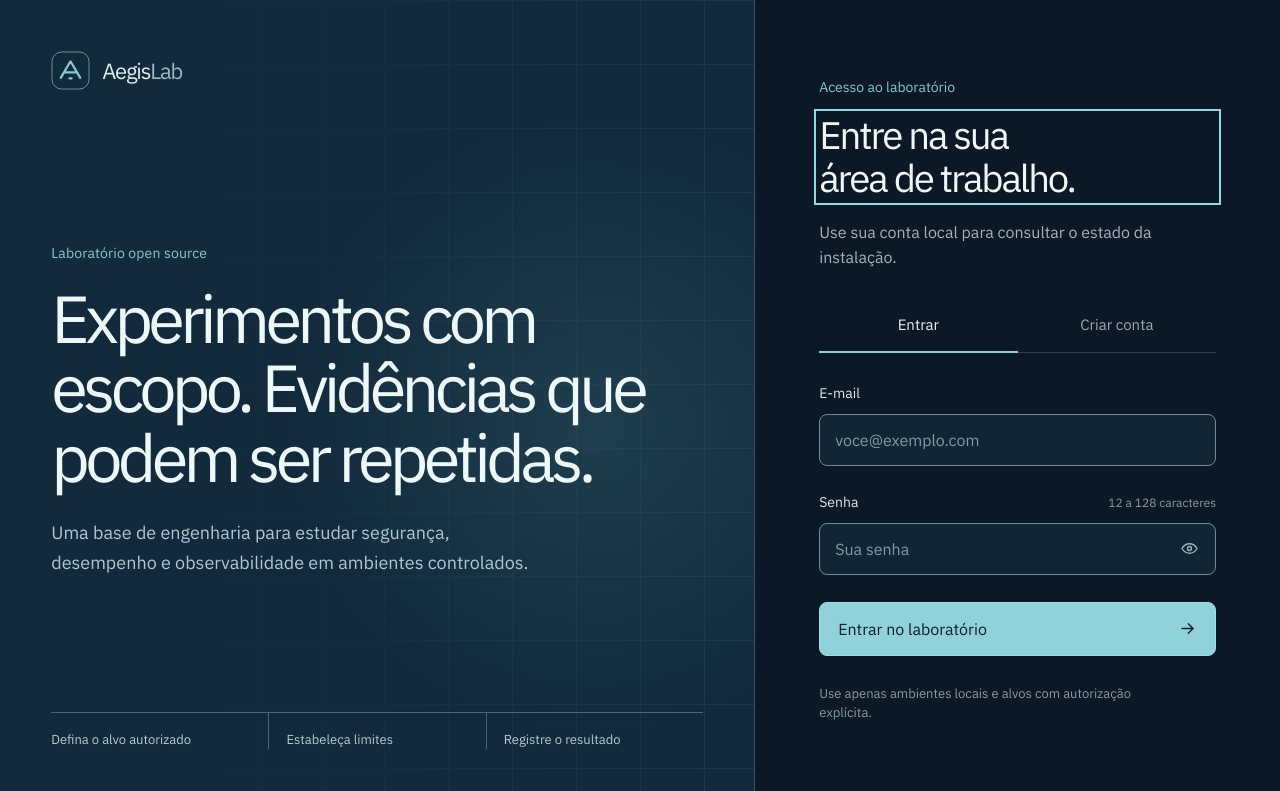
Test case: AegisLab interface › ignores an old dashboard HTTP 200 response after logout and another login
In the field labelled "E-mail": (1018, 440) [819, 414, 1216, 466], type "antigo@example.test"
In the password field labelled "Senha": (1018, 548) [819, 522, 1216, 574], type "strong-password-123"
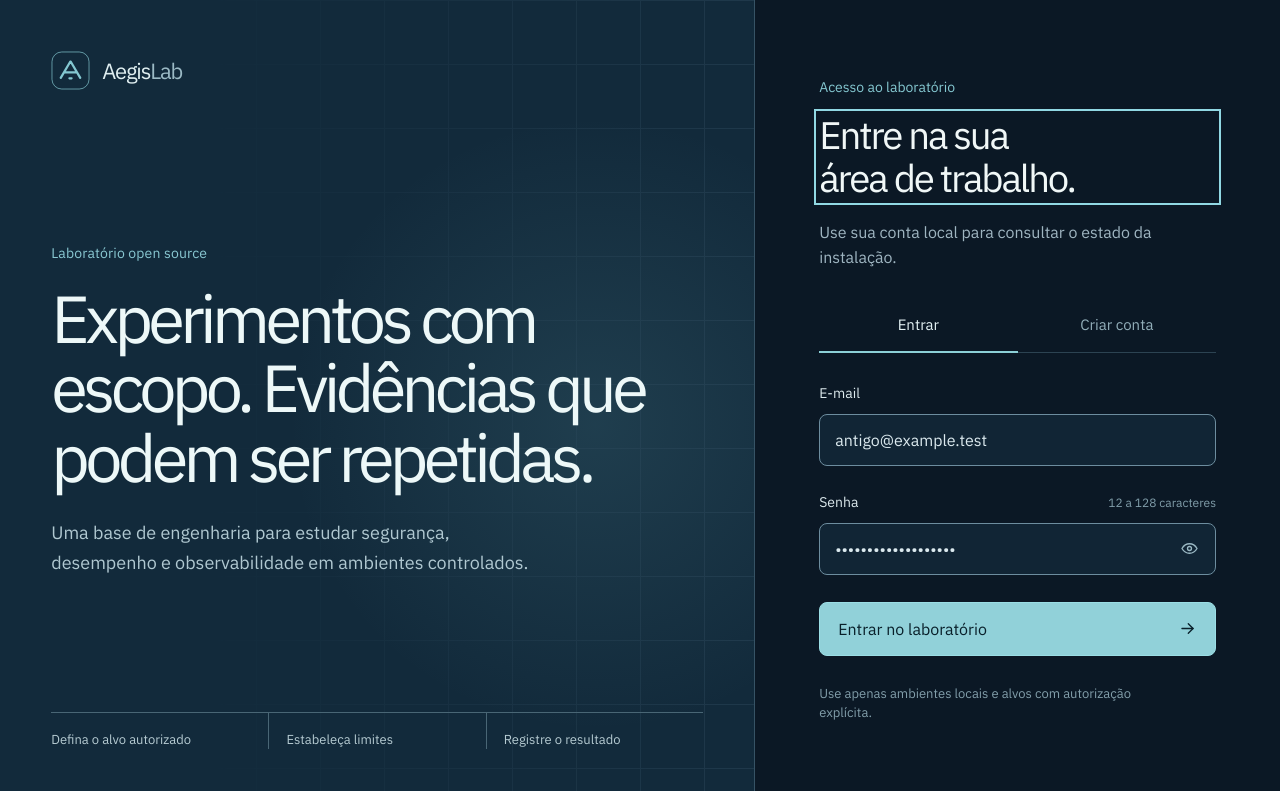
Click the button "Entrar no laboratório": click(913, 629) [819, 602, 1216, 656]
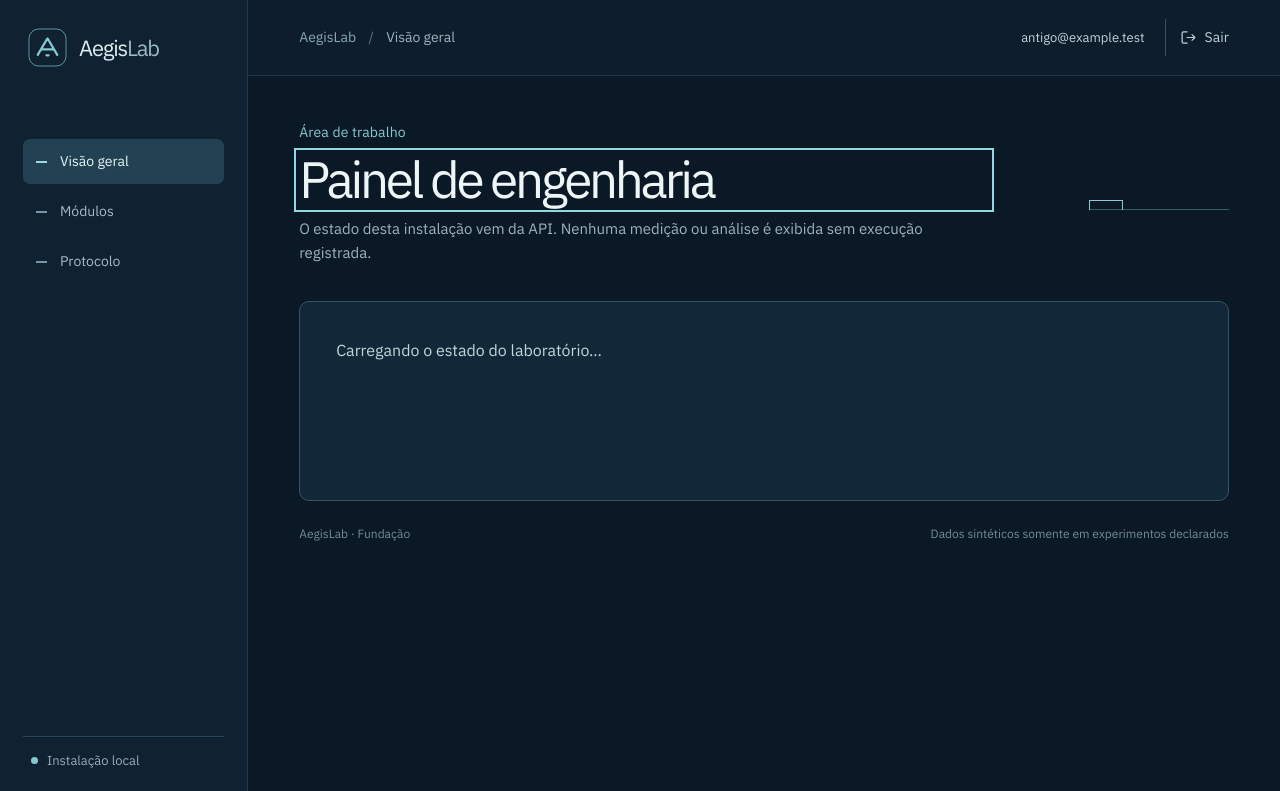
Expected: the heading "Painel de engenharia" is shown, [299, 146, 714, 212]
Click the button with aria-label "Sair da conta": click(1197, 38) [1165, 19, 1229, 56]
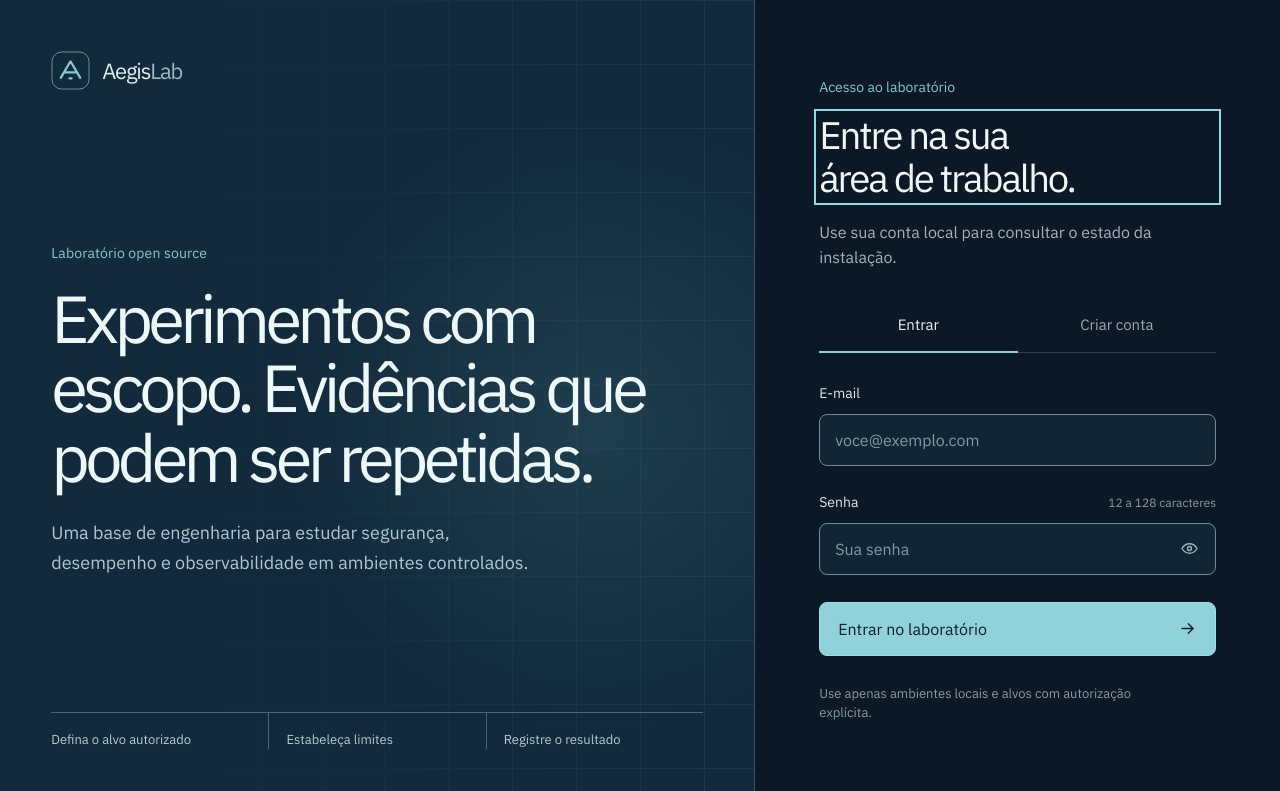
In the field labelled "E-mail": (1018, 440) [819, 414, 1216, 466], type "novo@example.test"
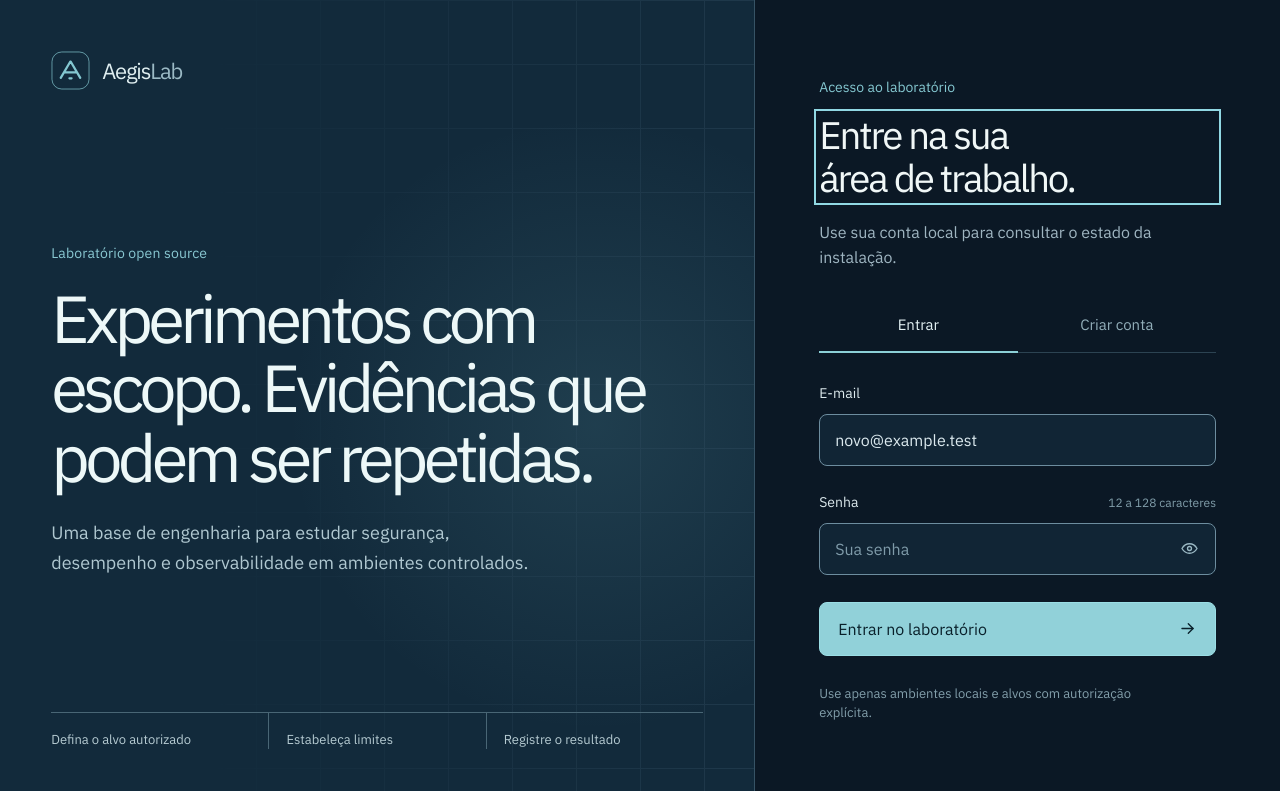
In the password field labelled "Senha": (1018, 548) [819, 522, 1216, 574], type "strong-password-123"
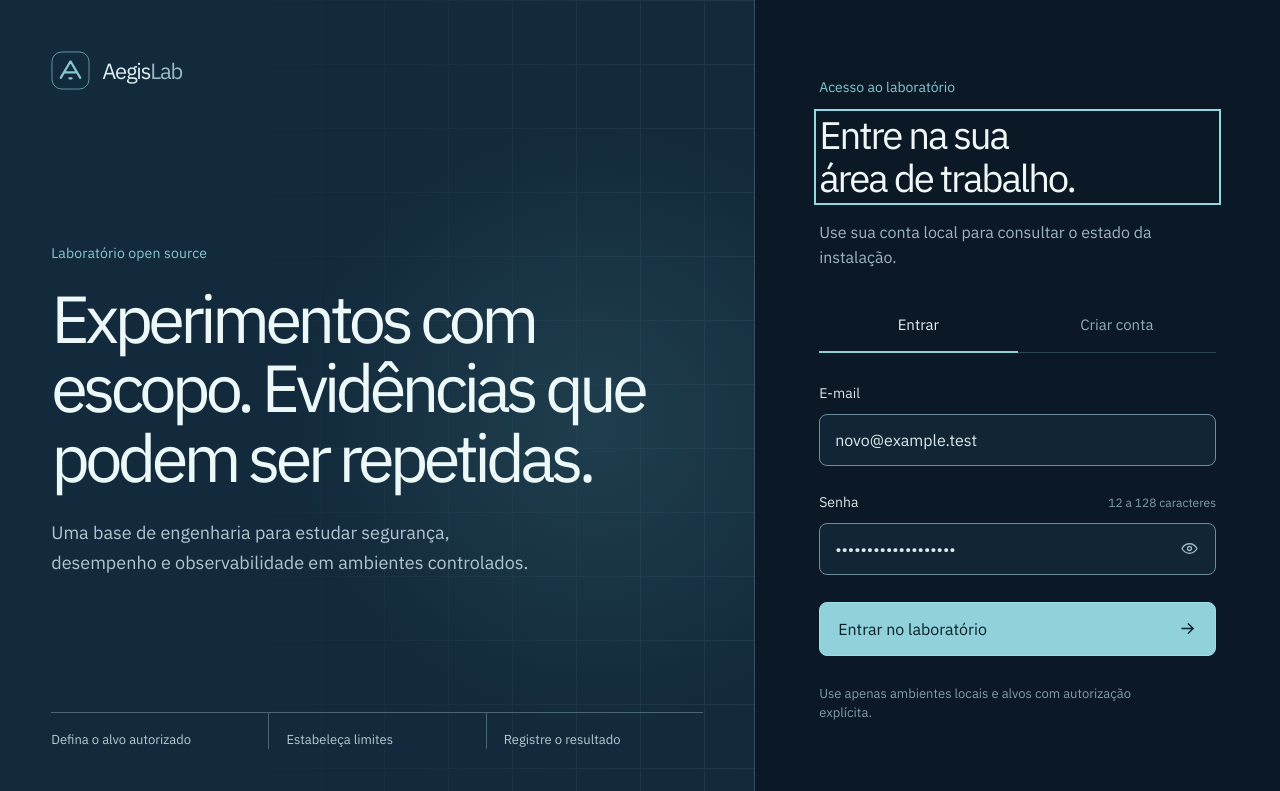
Click the button "Entrar no laboratório": click(913, 629) [819, 602, 1216, 656]
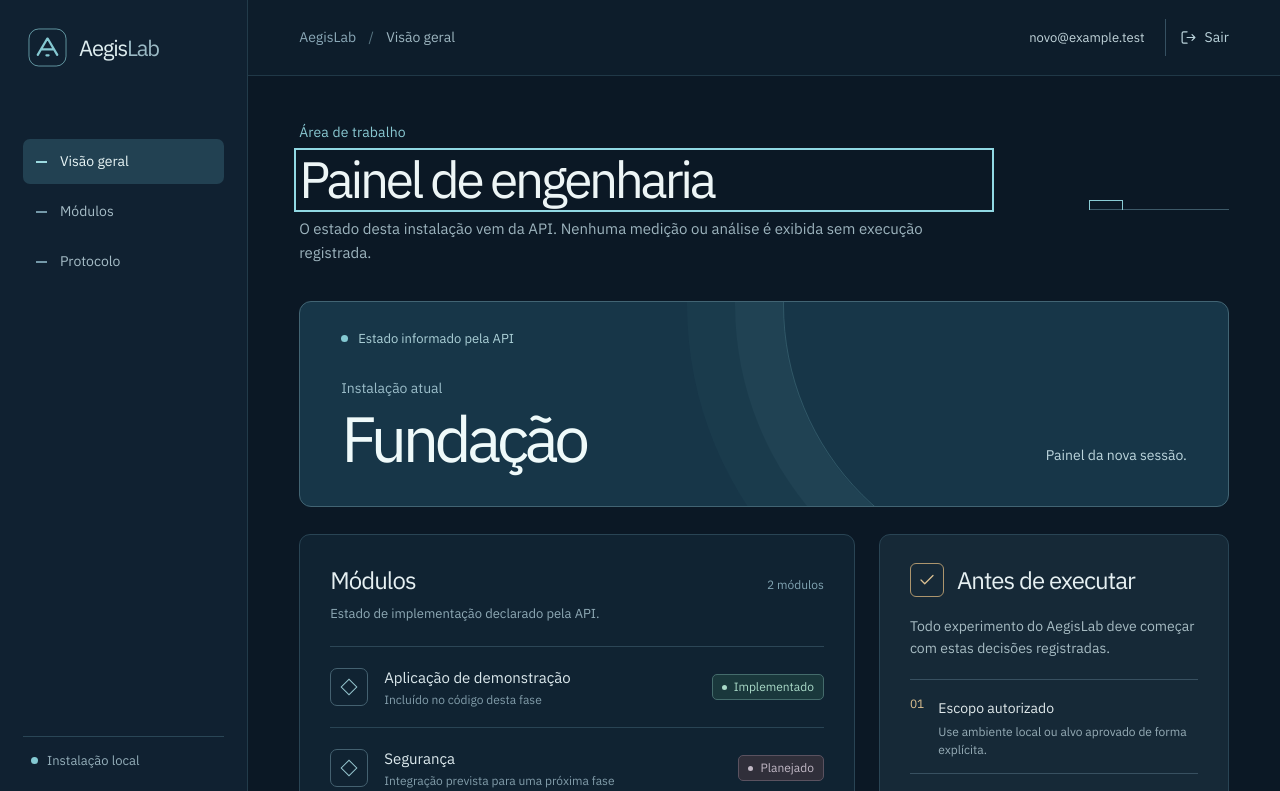
Expected: the text "Painel da nova sessão." is shown, [1046, 445, 1187, 467]
Expected: the text "novo@example.test" is shown, [1029, 28, 1144, 47]
